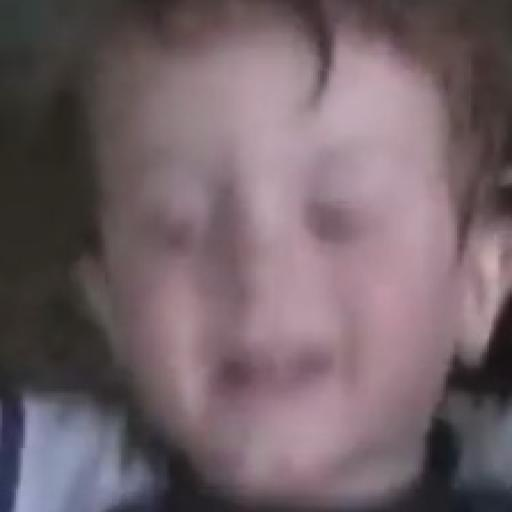Autism: (76, 0, 512, 512)
